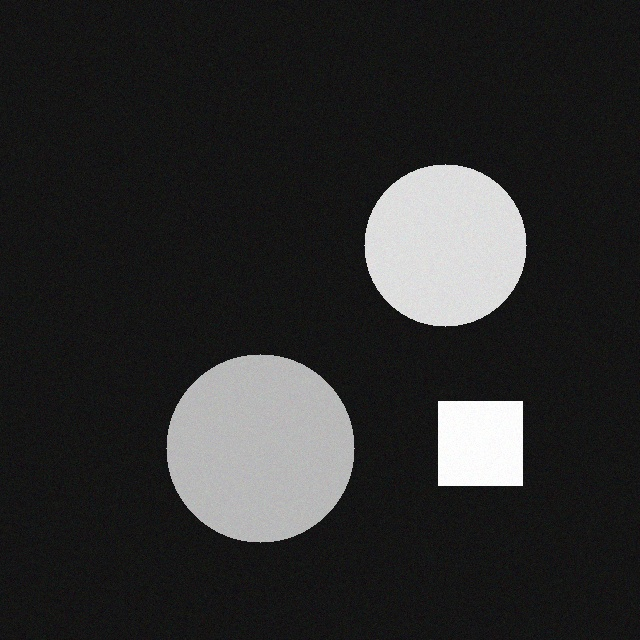circle: (158, 341, 346, 529), (356, 151, 518, 313)
square: (430, 388, 514, 472)
